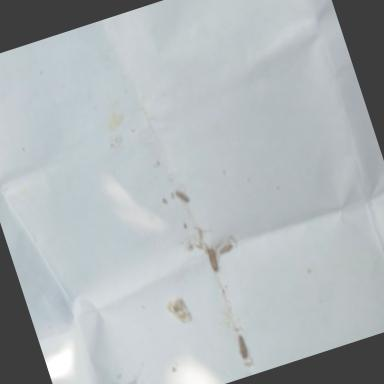pbw: (234, 332, 250, 360), (205, 244, 219, 270), (174, 188, 189, 204), (218, 242, 234, 254)
